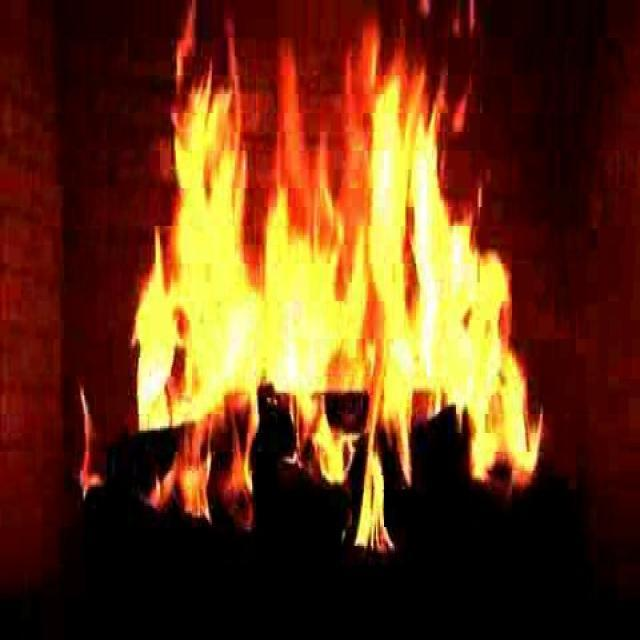Fire: (132, 52, 530, 554)
